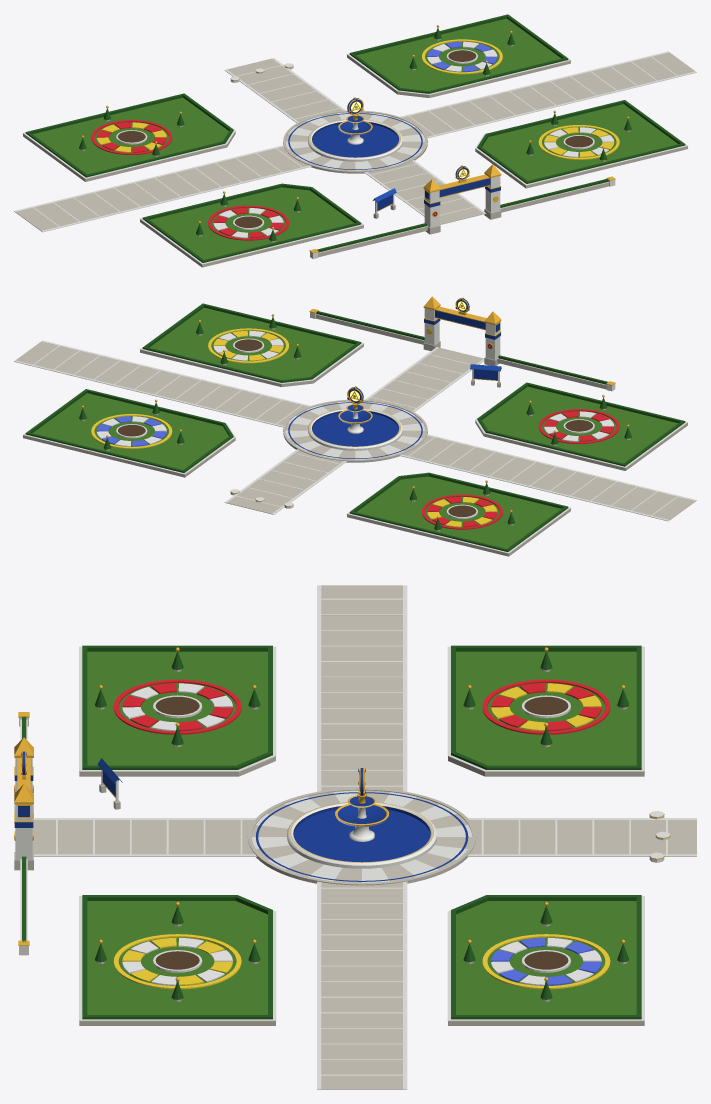
Rendered from SM_Plaza_Main.fbx.
3 views of the same model, one above another, from view 1: azimuth 30°, elevation 25°; view 2: azimuth 150°, elevation 25°; view 3: azimuth 270°, elevation 25° (orthographic). The views are drawn at different scales.
Parts seen in each view (by area): view 1: SM_Plaza_Main; view 2: SM_Plaza_Main; view 3: SM_Plaza_Main.
Boxes of the visible parts, x1=… form: SM_Plaza_Main: x1=14, y1=14, x2=696, y2=267; SM_Plaza_Main: x1=14, y1=296, x2=696, y2=556; SM_Plaza_Main: x1=14, y1=585, x2=696, y2=1089.
Size of the model in its own units: 194 by 16.38 by 111.
